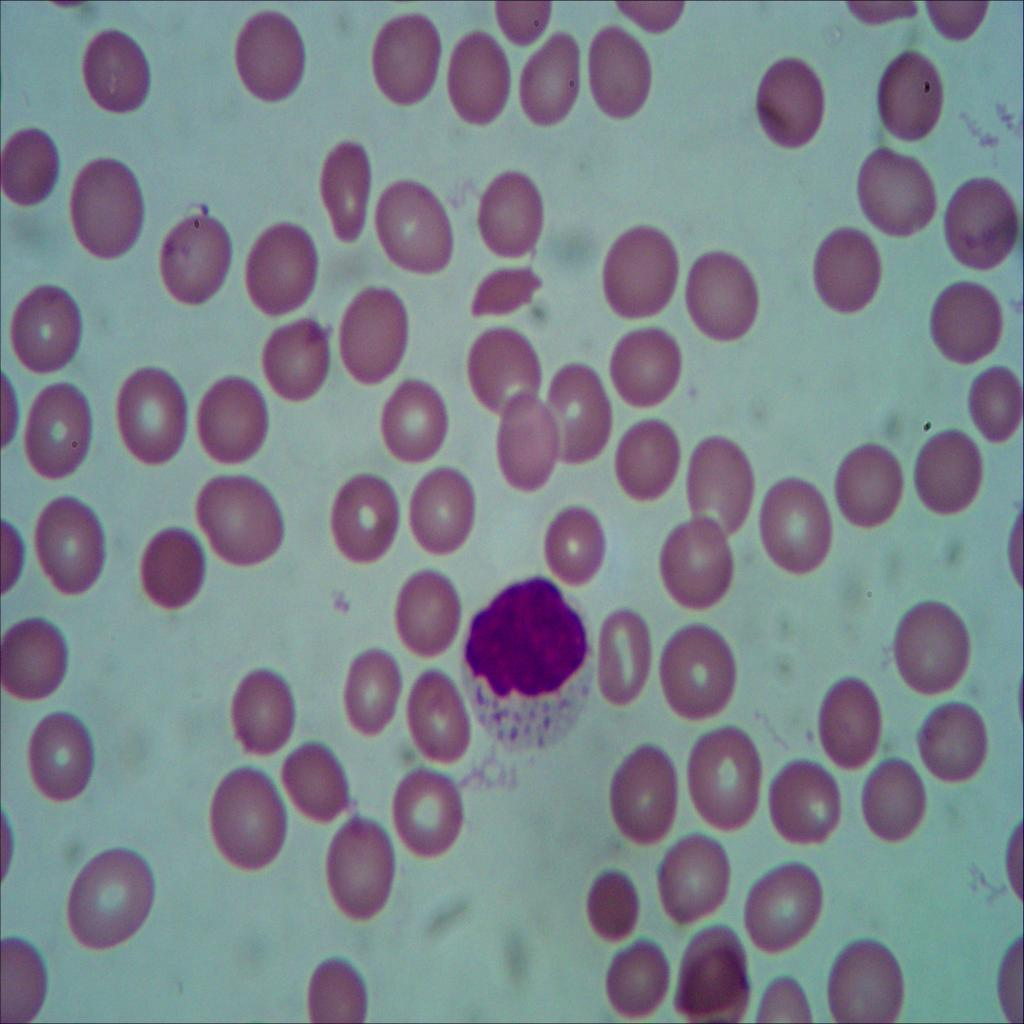Eritrosit: (68, 845, 162, 958), (192, 470, 286, 580), (738, 852, 826, 969), (894, 588, 974, 704), (808, 208, 887, 323), (367, 178, 454, 282), (154, 198, 233, 312), (913, 416, 988, 536), (20, 382, 102, 488), (658, 509, 738, 617), (603, 318, 688, 418), (598, 225, 680, 325), (69, 157, 147, 262), (213, 760, 286, 872), (33, 492, 108, 601), (758, 476, 834, 583), (324, 807, 397, 918), (681, 250, 765, 346), (588, 609, 654, 730), (391, 766, 466, 870), (912, 692, 990, 792), (579, 20, 653, 124), (312, 133, 378, 249), (691, 728, 763, 834), (324, 468, 400, 568), (860, 143, 940, 238), (940, 178, 1024, 268), (227, 11, 310, 102), (830, 444, 907, 542), (929, 270, 1007, 366), (233, 222, 317, 311), (613, 742, 680, 853), (371, 2, 437, 114), (470, 166, 552, 256), (136, 523, 212, 620), (10, 281, 85, 379), (661, 618, 733, 720), (686, 432, 755, 538), (390, 563, 463, 663), (655, 830, 731, 926), (259, 317, 340, 406), (496, 392, 564, 498), (196, 371, 270, 468), (540, 360, 613, 458), (403, 468, 479, 560), (438, 30, 514, 122), (121, 364, 185, 472), (820, 670, 884, 778), (26, 712, 100, 804), (768, 764, 842, 855), (80, 26, 153, 118), (226, 668, 300, 758), (520, 26, 582, 132), (604, 930, 675, 1022), (756, 65, 826, 158), (829, 940, 906, 1024), (575, 858, 643, 953), (0, 617, 73, 704), (405, 672, 474, 764), (470, 322, 538, 414), (863, 753, 924, 853), (340, 292, 404, 387), (377, 382, 450, 465), (877, 46, 944, 136), (615, 422, 681, 507), (284, 739, 348, 826), (0, 124, 63, 210), (340, 650, 404, 733), (553, 510, 613, 596), (464, 257, 537, 322), (964, 362, 1024, 441), (303, 958, 372, 1024)
Limfosit: (456, 576, 598, 756)
